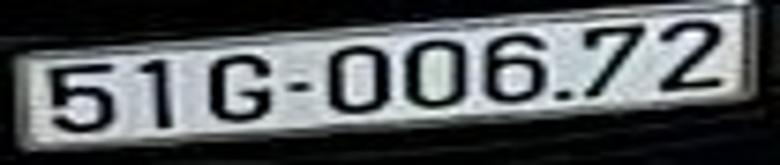-: (287, 79, 312, 93)
.: (555, 89, 570, 100)
0: (325, 45, 393, 106), (406, 41, 465, 107)
1: (140, 61, 177, 130)
2: (662, 20, 724, 90)
5: (46, 64, 117, 135)
6: (483, 35, 545, 101)
7: (582, 24, 638, 95)
G: (205, 54, 273, 121)
